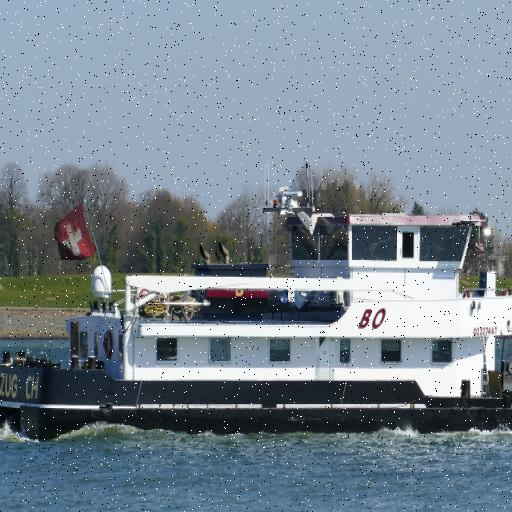tugboat: (1, 153, 512, 458)
